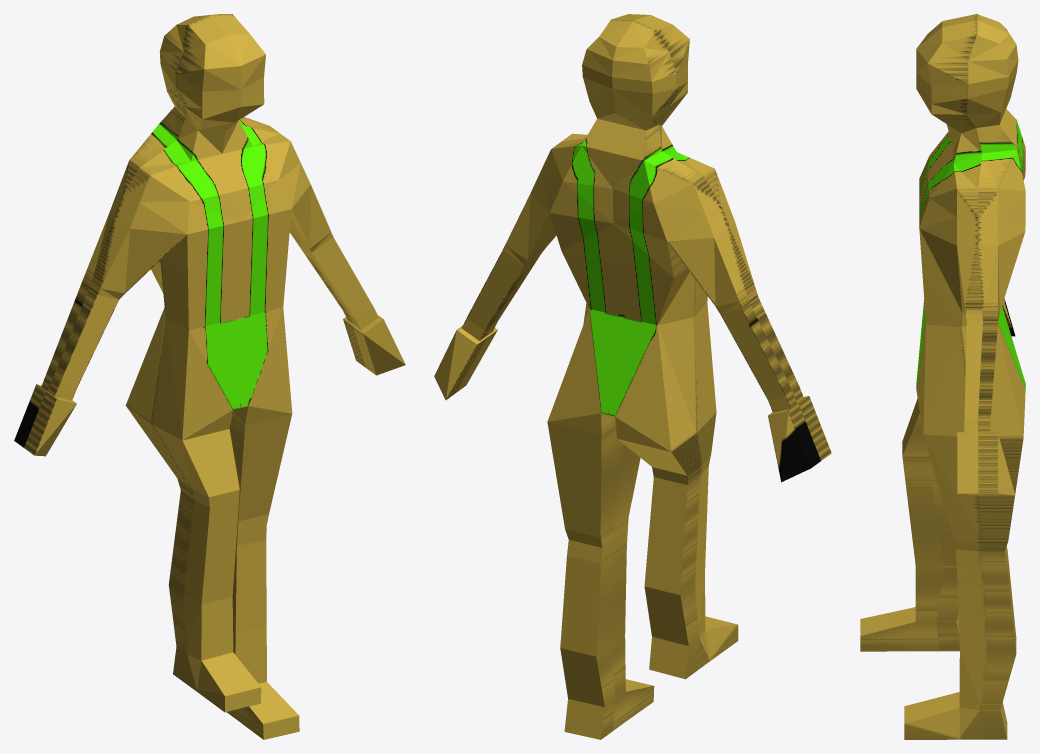
3 views of the same model, side by side, from view 1: azimuth 30°, elevation 25°; view 2: azimuth 150°, elevation 25°; view 3: azimuth 270°, elevation 25° (orthographic). The views are drawn at different scales.
Parts seen in each view (by area): view 1: Borat; view 2: Borat; view 3: Borat.
Boxes of the visible parts, box(x1,y1,x2,y2) form: Borat: box(14, 14, 405, 739); Borat: box(434, 14, 831, 739); Borat: box(860, 14, 1025, 739).
Bounding box in the file's own units: 1.79 × 3.23 × 0.6988.
